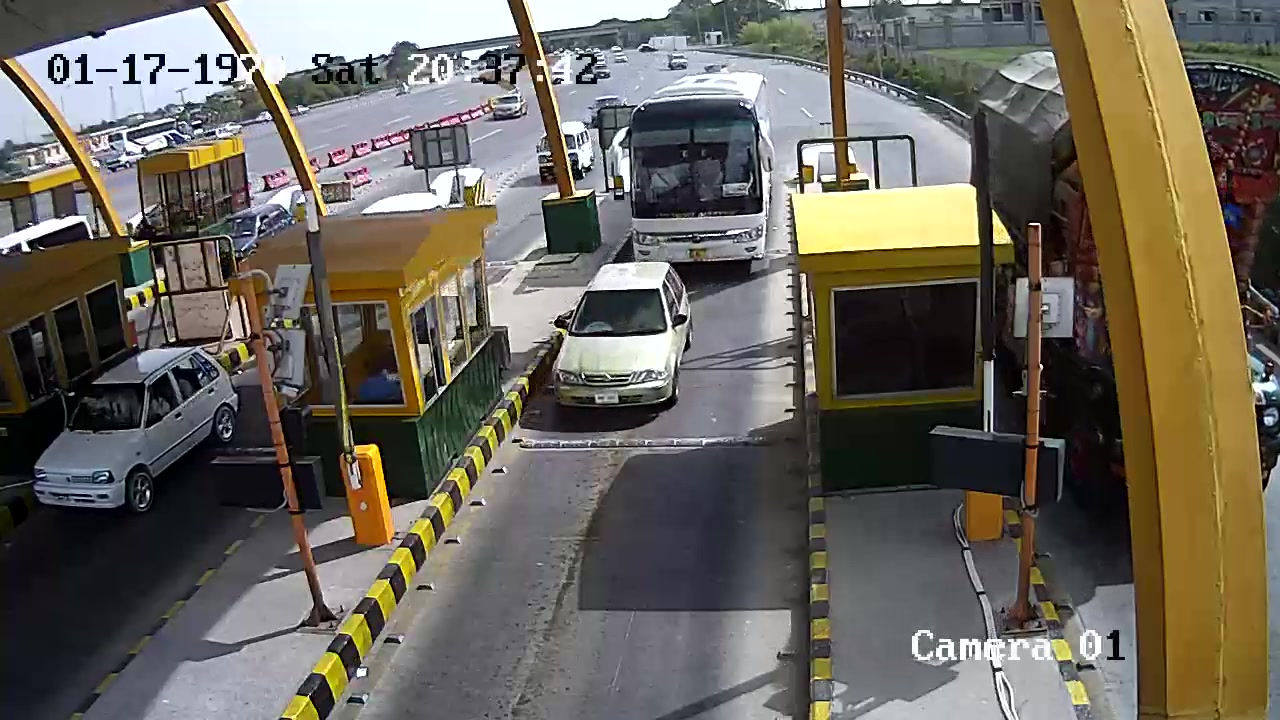F1: (545, 262, 703, 435)
